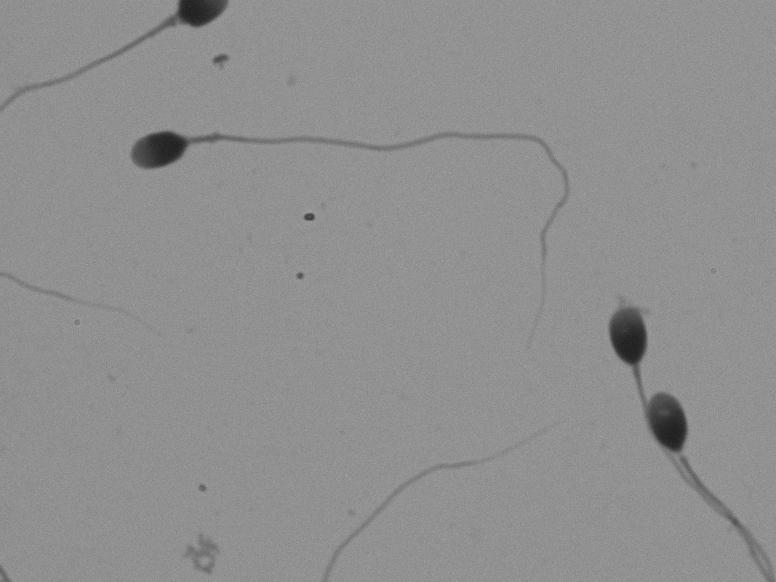Normal: (123, 71, 593, 343), (591, 218, 752, 569)
